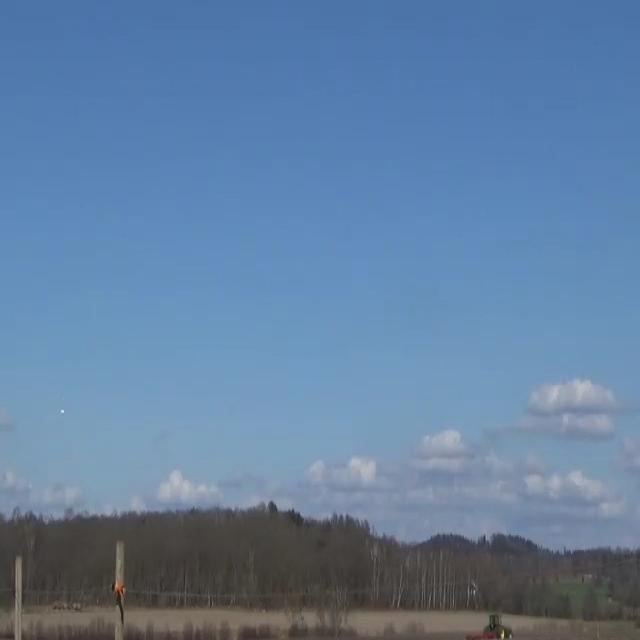drone: (61, 409, 65, 415)
